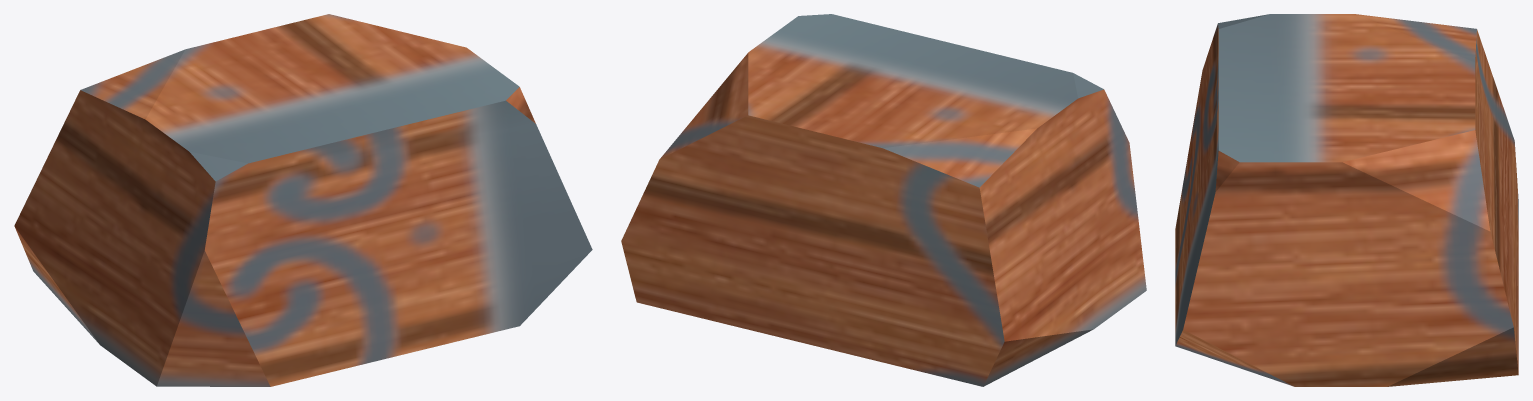
The model's file is Kamen_wide.fbx.
3 renders of one model, left to right at view 1: azimuth 30°, elevation 25°; view 2: azimuth 150°, elevation 25°; view 3: azimuth 270°, elevation 25°, orthographic. The views are drawn at different scales.
Visible parts, largest first — view 1: Kamen_wide; view 2: Kamen_wide; view 3: Kamen_wide.
Boxes of the visible parts, <box> form: Kamen_wide: <box>14,14,592,386</box>; Kamen_wide: <box>621,14,1146,386</box>; Kamen_wide: <box>1175,14,1518,386</box>.
Size of the model in its own units: 26.3 by 12.38 by 19.27.
